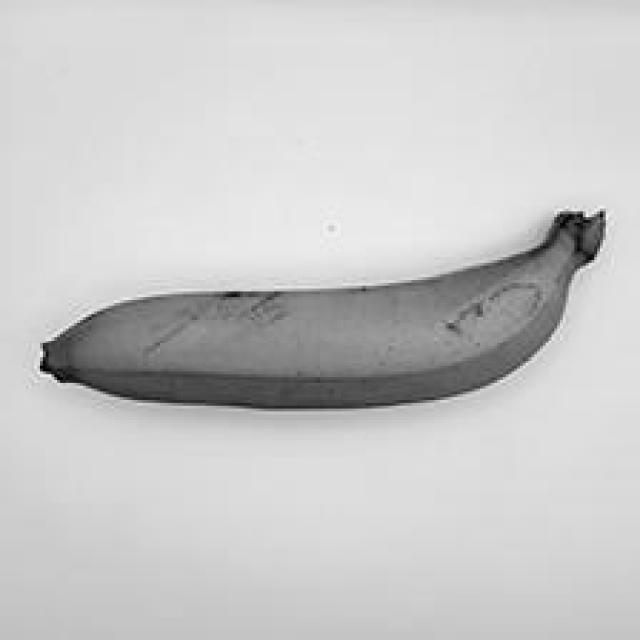Raw: (18, 191, 621, 433)
